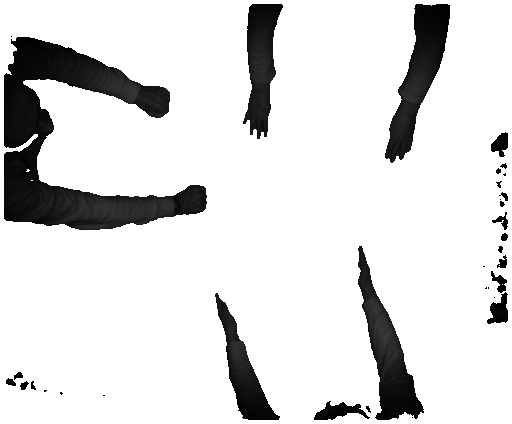fist: (140, 84, 175, 119), (179, 184, 207, 215)
hand: (384, 114, 423, 167), (240, 90, 271, 143)
spine: (208, 288, 246, 339), (352, 243, 383, 297)
